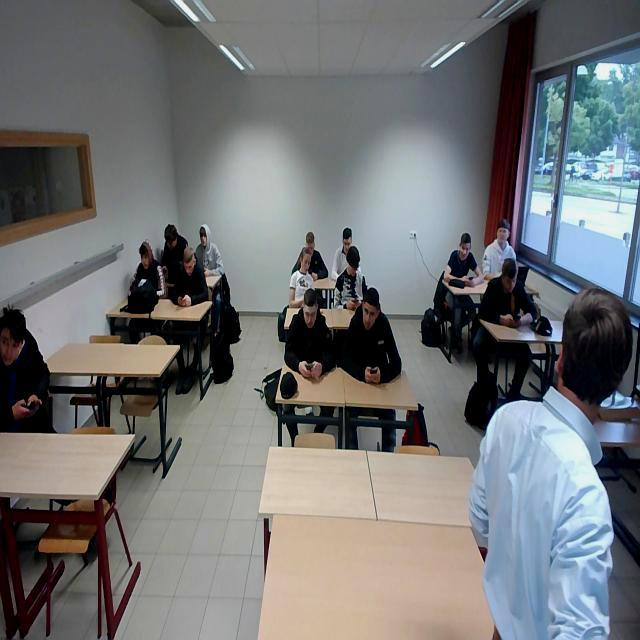Phone use: (0, 308, 50, 432), (344, 289, 404, 382), (286, 292, 335, 377), (486, 258, 537, 326), (444, 230, 482, 284), (337, 247, 370, 309), (132, 238, 166, 298), (179, 252, 207, 305), (197, 224, 225, 277)
